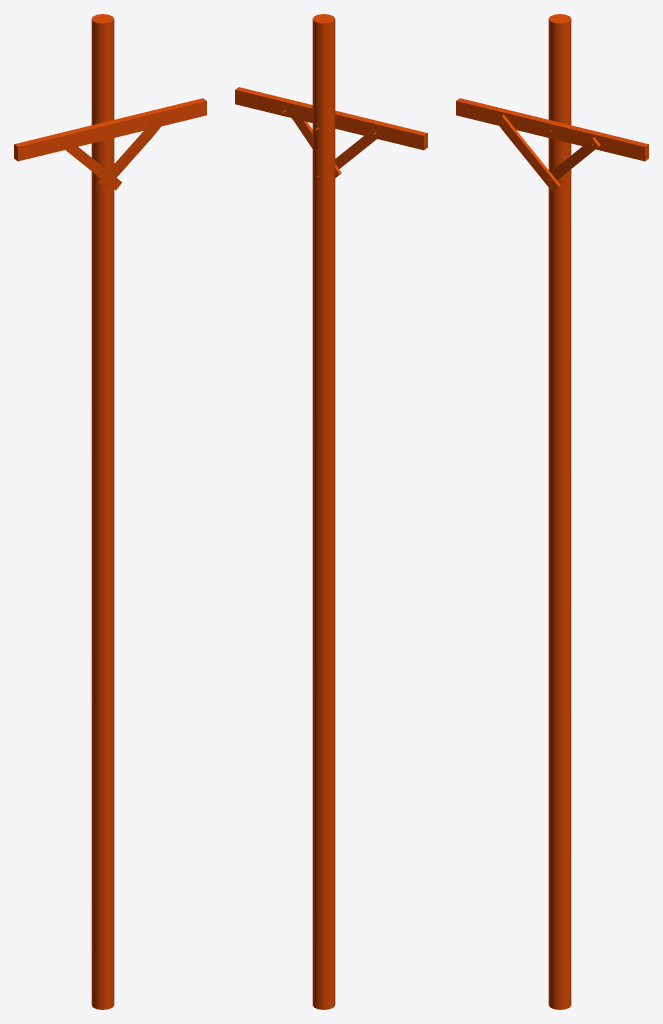
File: Support_003.FBX
3 renders of one model, left to right at view 1: azimuth 30°, elevation 25°; view 2: azimuth 150°, elevation 25°; view 3: azimuth 330°, elevation 25°, orthographic.
Parts seen in each view (by area): view 1: Support_003, Cross_003; view 2: Support_003, Cross_003; view 3: Support_003, Cross_003.
Part boxes in pixels (x1=…): Support_003: x1=91, y1=14, x2=114, y2=1009; Cross_003: x1=14, y1=98, x2=206, y2=190; Support_003: x1=312, y1=14, x2=335, y2=1009; Cross_003: x1=235, y1=87, x2=427, y2=178; Support_003: x1=548, y1=14, x2=571, y2=1009; Cross_003: x1=456, y1=98, x2=648, y2=191.
Bounding box in the file's own units: 193 × 961 × 36.44.
